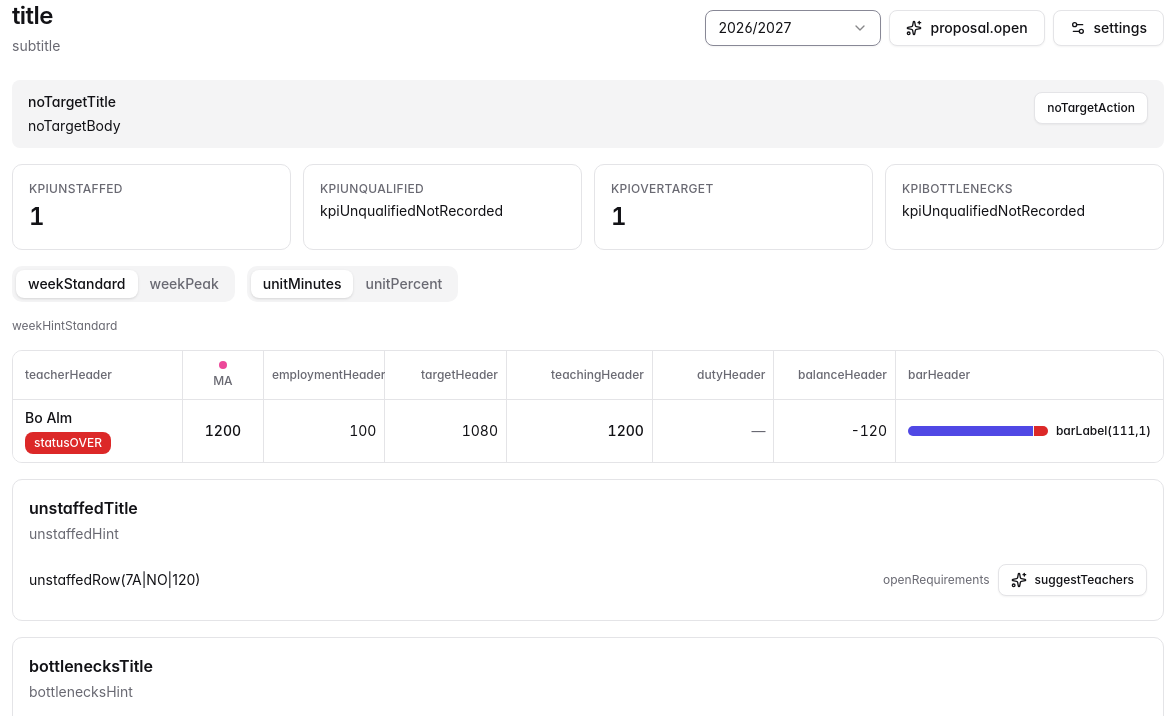
Test: StaffingPage › says no riktmärke is set when the school has no policy, and opens the card on request
Expected: the text "noTargetTitle" is shown, [28,93,116,110]
Click the button "noTargetAction".
click(1091, 108)  # box [1034,92,1148,124]
(page scrolled)
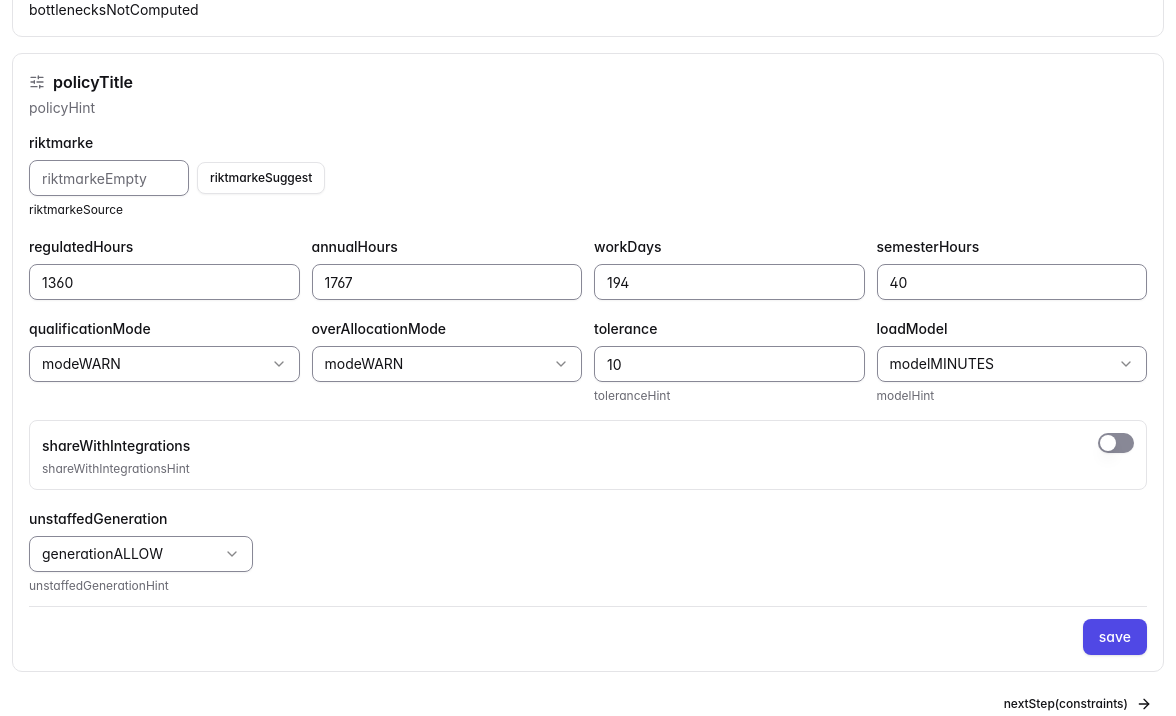
Now the element with id "staffing-policy" is shown
